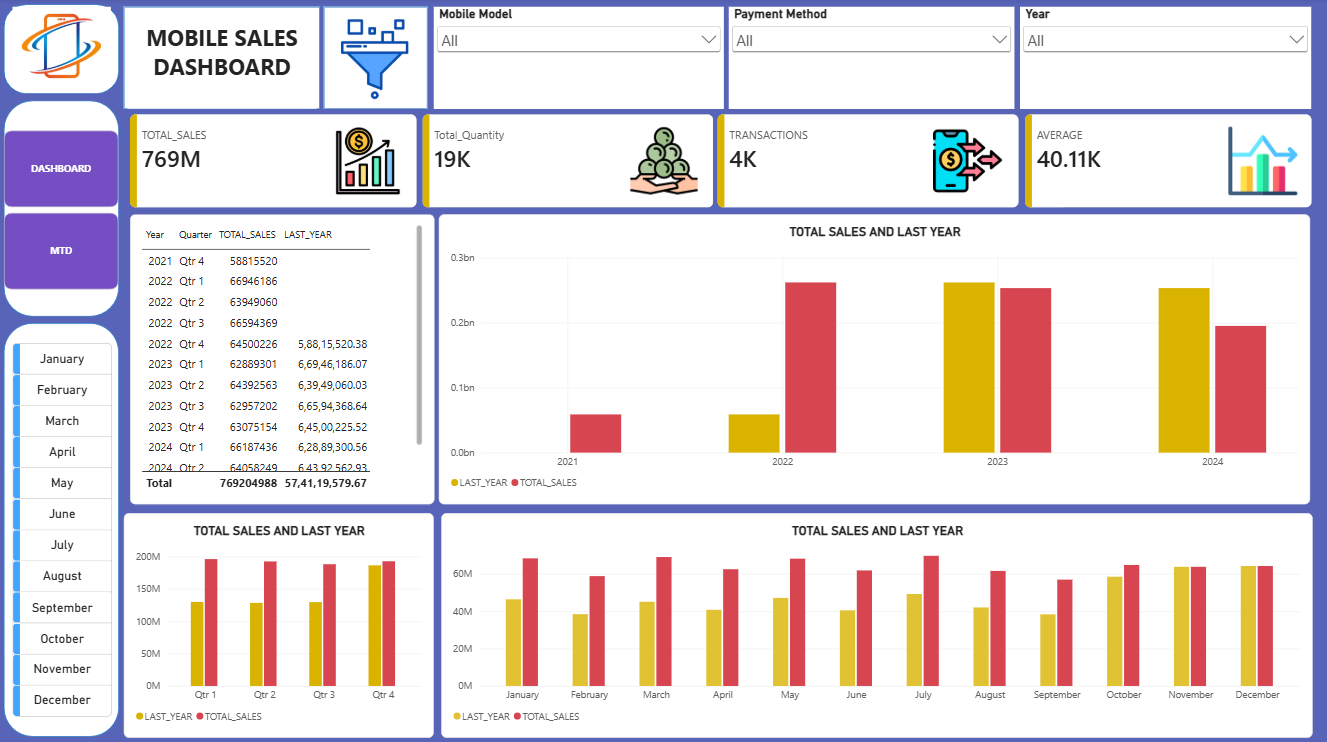

What the dashboard file says about the page in this screenshot:
{"tool":"powerbi","page":{"name":"SAME PERIOD LAST YEAR","canvas":[1920,1080],"ordinal":2},"visuals":[{"type":"shape","box":[6.2,8.2,166.7,129.7],"z":0},{"type":"image","box":[18.5,12.3,142,113.2],"z":1000},{"type":"shape","box":[6.2,148.2,166.7,312.9],"z":2000},{"type":"shape","box":[6.2,471.4,166.7,599],"z":3000},{"type":"advancedSlicerVisual","fields":{"Values":["CUSTOM_DATE.Date.Variation.Date Hierarchy.Month"]},"box":[18.5,500.2,144.1,543.4],"z":4000},{"type":"cardVisual","fields":{"Data":["Mobile Sales.TOTAL AMOUNT"]},"box":[187.3,168.8,415.8,135.8],"z":5000},{"type":"slicer","fields":{"Values":["Mobile Sales.Mobile Model"]},"box":[627.8,12.3,419.9,148.2],"z":6000},{"type":"slicer","fields":{"Values":["CUSTOM_DATE.Date.Variation.Date Hierarchy.Year"]},"box":[1475.8,12.3,422,148.2],"z":7000},{"type":"slicer","fields":{"Values":["Mobile Sales.Payment Method"]},"box":[1055.9,12.3,413.7,148.2],"z":8000},{"type":"shape","box":[469.3,12.3,150.3,148.2],"z":9000},{"type":"image","box":[471.4,28.8,144.1,119.4],"z":10000},{"type":"shape","box":[179.1,12.3,284,148.2],"z":11000},{"type":"textbox","box":[185.2,16.5,273.8,144.1],"z":12000},{"type":"cardVisual","fields":{"Data":["Mobile Sales.Total_Quantity"]},"box":[611.3,168.8,422,135.8],"z":13000},{"type":"cardVisual","fields":{"Data":["Mobile Sales.TRANSACTIONS"]},"box":[1039.5,168.8,436.4,135.8],"z":14000},{"type":"cardVisual","fields":{"Data":["Mobile Sales.AVERAGE"]},"box":[1484.1,168.8,415.8,135.8],"z":15000},{"type":"tableEx","fields":{"Values":["CUSTOM_DATE.Date.Variation.Date Hierarchy.Year","CUSTOM_DATE.Date.Variation.Date Hierarchy.Quarter","Mobile Sales.TOTAL_SALES","Mobile Sales.LAST_YEAR"]},"box":[187.3,312.9,440.5,419.9],"z":16000},{"type":"clusteredColumnChart","title":"TOTAL SALES AND LAST YEAR","fields":{"Y":["Mobile Sales.LAST_YEAR","Mobile Sales.TOTAL_SALES"],"Category":["CUSTOM_DATE.Date.Variation.Date Hierarchy.Year","CUSTOM_DATE.Date.Variation.Date Hierarchy.Quarter","CUSTOM_DATE.Date.Variation.Date Hierarchy.Month","CUSTOM_DATE.Date.Variation.Date Hierarchy.Day"]},"box":[636,312.9,1261.8,419.9],"z":17000},{"type":"clusteredColumnChart","title":"TOTAL SALES AND LAST YEAR","fields":{"Y":["Mobile Sales.LAST_YEAR","Mobile Sales.TOTAL_SALES"],"Category":["CUSTOM_DATE.Date.Variation.Date Hierarchy.Year","CUSTOM_DATE.Date.Variation.Date Hierarchy.Quarter","CUSTOM_DATE.Date.Variation.Date Hierarchy.Month","CUSTOM_DATE.Date.Variation.Date Hierarchy.Day"]},"box":[179.1,745.1,448.7,325.2],"z":18000},{"type":"clusteredColumnChart","title":"TOTAL SALES AND LAST YEAR","fields":{"Y":["Mobile Sales.LAST_YEAR","Mobile Sales.TOTAL_SALES"],"Category":["CUSTOM_DATE.Date.Variation.Date Hierarchy.Year","CUSTOM_DATE.Date.Variation.Date Hierarchy.Quarter","CUSTOM_DATE.Date.Variation.Date Hierarchy.Month","CUSTOM_DATE.Date.Variation.Date Hierarchy.Day"]},"box":[638.1,745.1,1261.8,325.2],"z":19000},{"type":"pageNavigator","box":[6.2,191.4,166.7,230.5],"z":19001}]}

Visuals, with their boxes in screenshot pixels (x1, y1, x2, y2), scaled from the page's 1920x1080 canvas onto the 1328x742 screenshot:
shape: x1=4, y1=6, x2=120, y2=95
image: x1=13, y1=8, x2=111, y2=86
shape: x1=4, y1=102, x2=120, y2=317
shape: x1=4, y1=324, x2=120, y2=735
advancedSlicerVisual - CUSTOM_DATE.Date.Variation.Date Hierarchy.Month: x1=13, y1=344, x2=112, y2=717
cardVisual - Mobile Sales.TOTAL AMOUNT: x1=130, y1=116, x2=417, y2=209
slicer - Mobile Sales.Mobile Model: x1=434, y1=8, x2=725, y2=110
slicer - CUSTOM_DATE.Date.Variation.Date Hierarchy.Year: x1=1021, y1=8, x2=1313, y2=110
slicer - Mobile Sales.Payment Method: x1=730, y1=8, x2=1016, y2=110
shape: x1=325, y1=8, x2=429, y2=110
image: x1=326, y1=20, x2=426, y2=102
shape: x1=124, y1=8, x2=320, y2=110
textbox: x1=128, y1=11, x2=317, y2=110
cardVisual - Mobile Sales.Total_Quantity: x1=423, y1=116, x2=715, y2=209
cardVisual - Mobile Sales.TRANSACTIONS: x1=719, y1=116, x2=1021, y2=209
cardVisual - Mobile Sales.AVERAGE: x1=1027, y1=116, x2=1314, y2=209
tableEx - CUSTOM_DATE.Date.Variation.Date Hierarchy.Year x CUSTOM_DATE.Date.Variation.Date Hierarchy.Quarter: x1=130, y1=215, x2=434, y2=503
"TOTAL SALES AND LAST YEAR" clusteredColumnChart: x1=440, y1=215, x2=1313, y2=503
"TOTAL SALES AND LAST YEAR" clusteredColumnChart: x1=124, y1=512, x2=434, y2=735
"TOTAL SALES AND LAST YEAR" clusteredColumnChart: x1=441, y1=512, x2=1314, y2=735
pageNavigator: x1=4, y1=131, x2=120, y2=290
